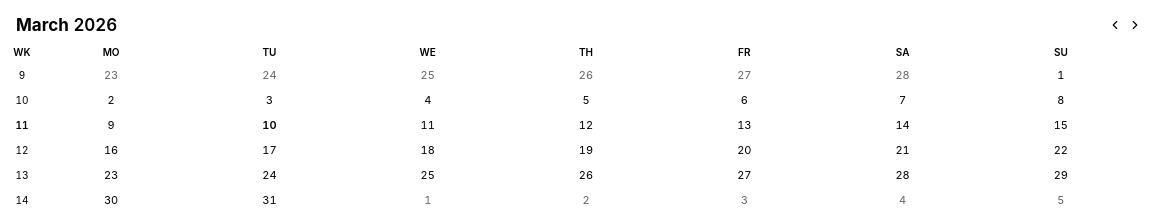
Test: MiniCalendar › paging › Next month shows April 2026 without changing the shown day
Click the button named "Next month" at (1135, 25), box x1=1126 y1=16 x2=1144 y2=34
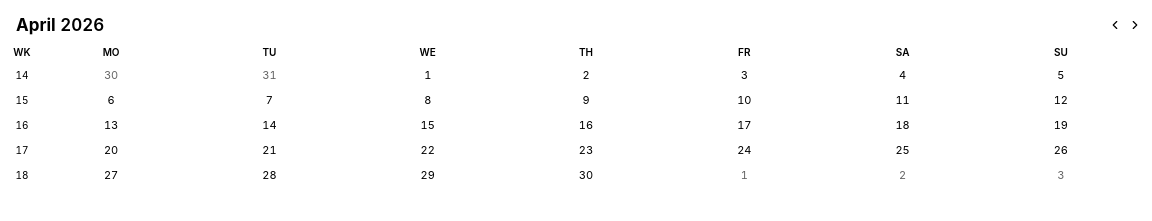
Result: the button "April 2026" is shown at x1=12 y1=12 x2=1104 y2=38
